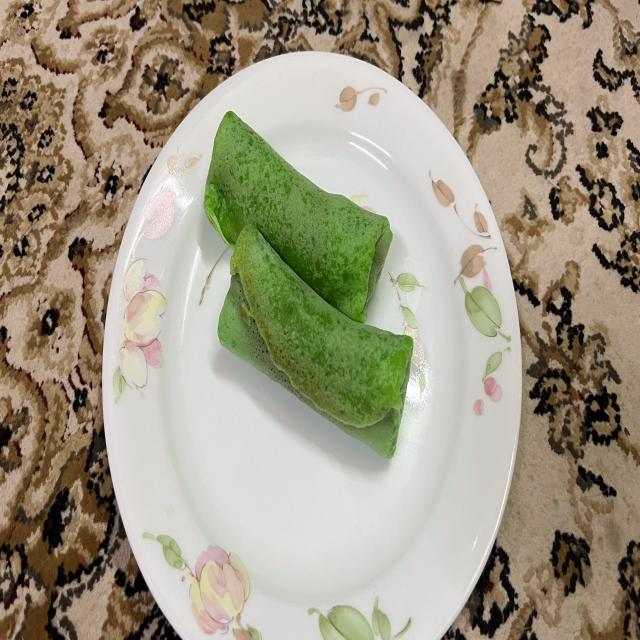Kuih-Ketayap: (218, 224, 414, 458), (204, 111, 392, 322)
